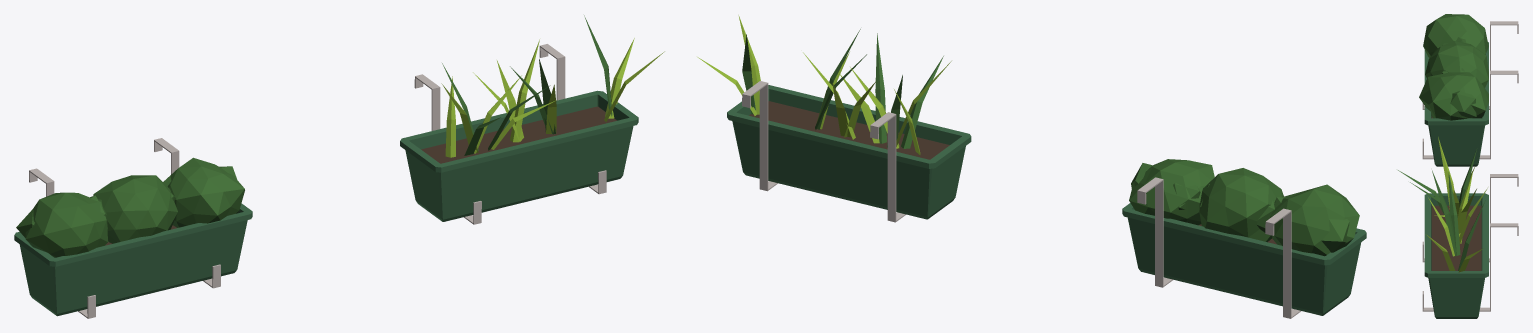
File: SM_Fixture_RailPlanterShort16520_Alu_Green_01.gltf
The picture shows the model from 3 angles, left to right: view 1: azimuth 30°, elevation 25°; view 2: azimuth 150°, elevation 25°; view 3: azimuth 270°, elevation 25°; orthographic projection. The views are drawn at different scales.
Parts seen in each view (by area): view 1: SM_Fixture_RailPlanterShort16520_Alu_Green_01; view 2: SM_Fixture_RailPlanterShort16520_Alu_Green_01; view 3: SM_Fixture_RailPlanterShort16520_Alu_Green_01.
Boxes of the visible parts, x1=… form: SM_Fixture_RailPlanterShort16520_Alu_Green_01: x1=14, y1=15, x2=664, y2=318; SM_Fixture_RailPlanterShort16520_Alu_Green_01: x1=697, y1=15, x2=1366, y2=318; SM_Fixture_RailPlanterShort16520_Alu_Green_01: x1=1398, y1=14, x2=1518, y2=318.
Bounding box in the file's own units: 2 × 0.4481 × 0.4222.
Materials: 1 (1 with a texture image).
